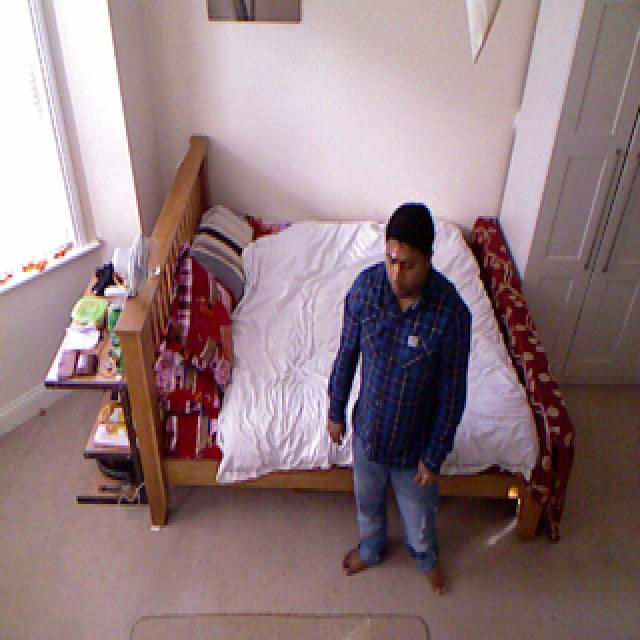standing: (328, 202, 471, 576)
